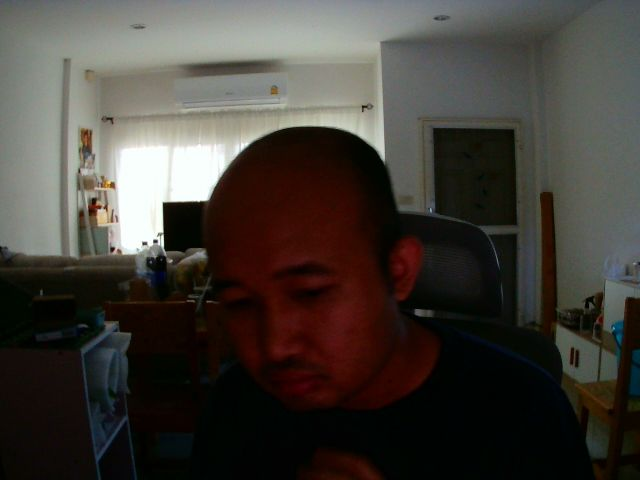face: (197, 122, 408, 415)
